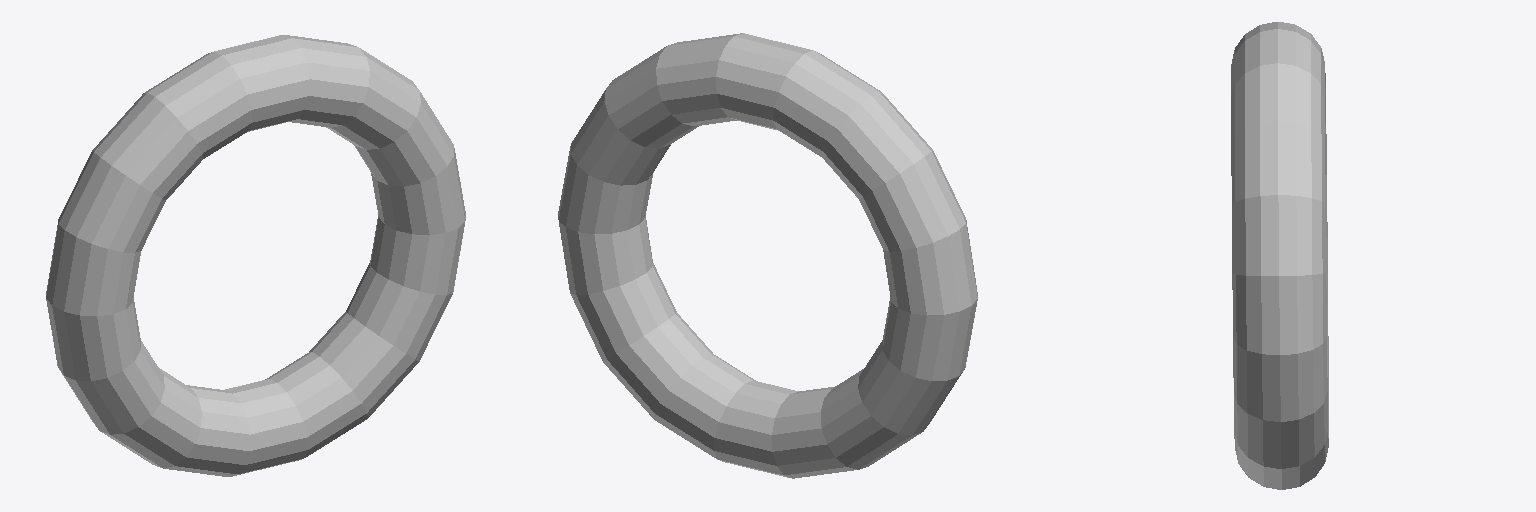
Rendered from ring_model.obj.
3 renders of one model, left to right at view 1: azimuth 30°, elevation 25°; view 2: azimuth 150°, elevation 25°; view 3: azimuth 270°, elevation 25°, orthographic.
Parts seen in each view (by area): view 1: Ring; view 2: Ring; view 3: Ring.
Part boxes in pixels (x1,y1,x2,y2): Ring: (46, 35, 465, 476); Ring: (558, 33, 977, 478); Ring: (1231, 22, 1328, 489).
Size of the model in its own units: 2.26 by 2.23 by 0.4699.